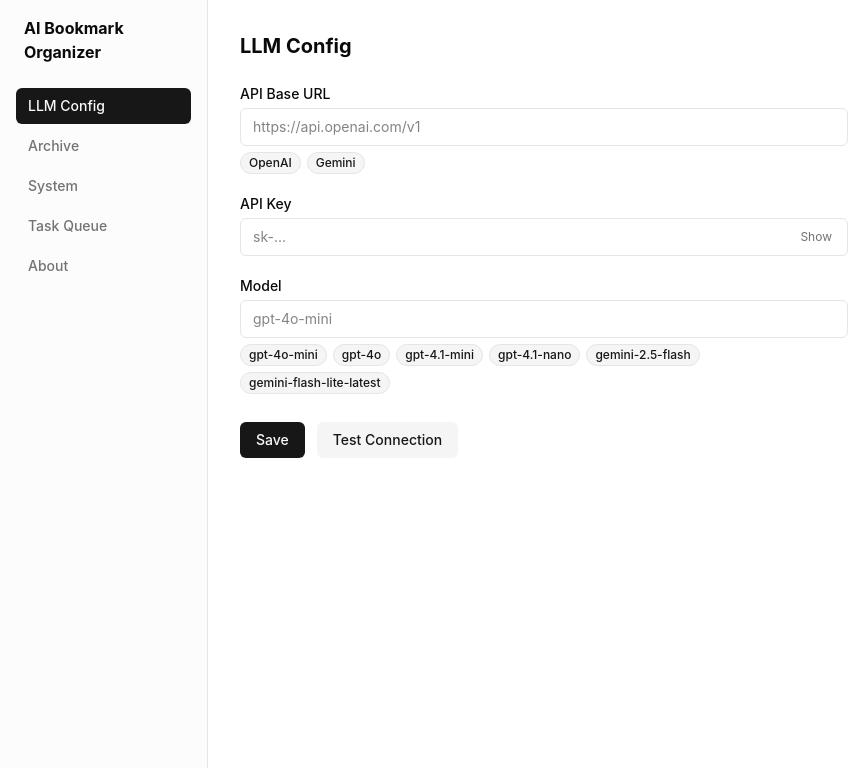
Test: Options Page › shows validation errors for empty fields on submit
The image size is (865, 768).
Expected: the field labelled "API Base URL" is shown, x1=240 y1=108 x2=848 y2=146
Click the button "Save".
click(272, 440)  # box x1=240 y1=422 x2=305 y2=458
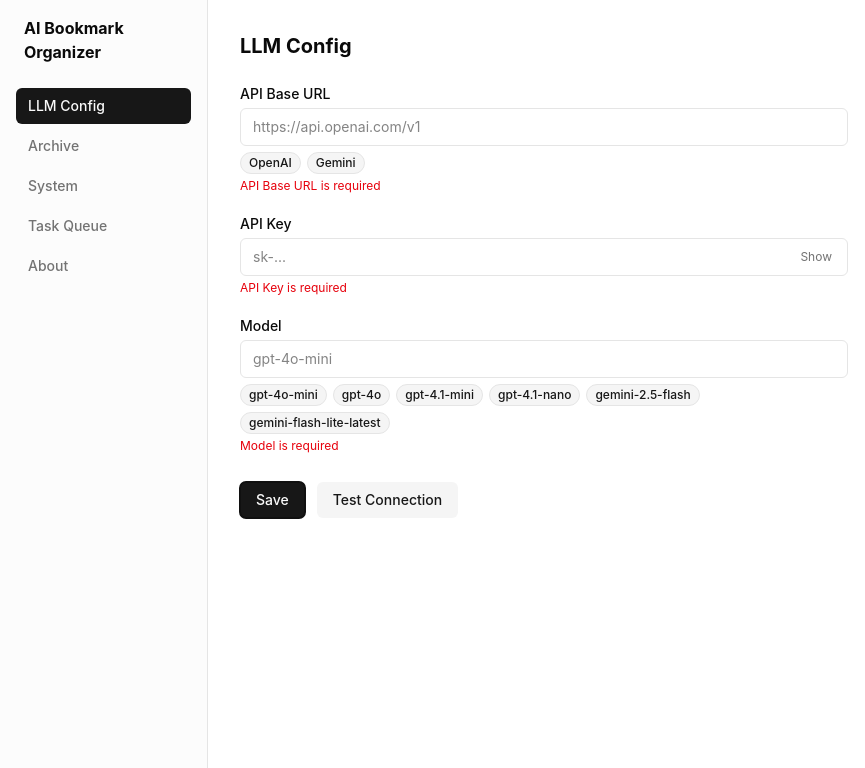
Expected: the text "API Base URL is required" is shown, x1=240 y1=178 x2=381 y2=193
Expected: the text "API Key is required" is shown, x1=240 y1=280 x2=347 y2=295
Expected: the text "Model is required" is shown, x1=240 y1=438 x2=339 y2=453
